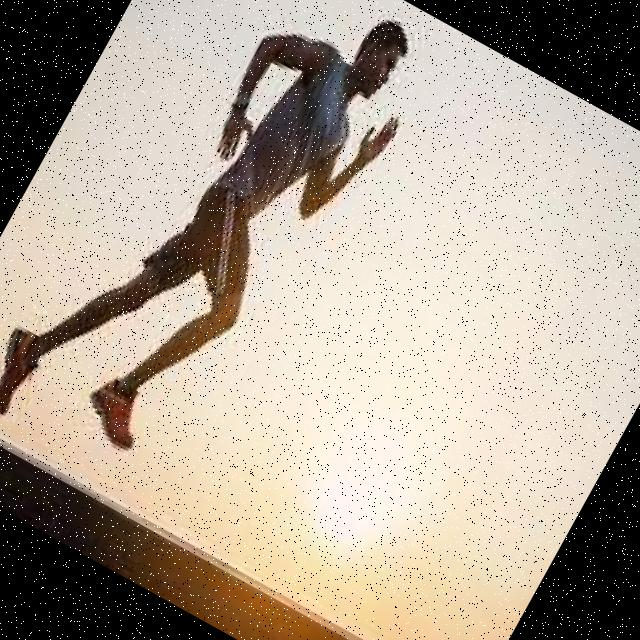Person: (0, 0, 442, 516)
